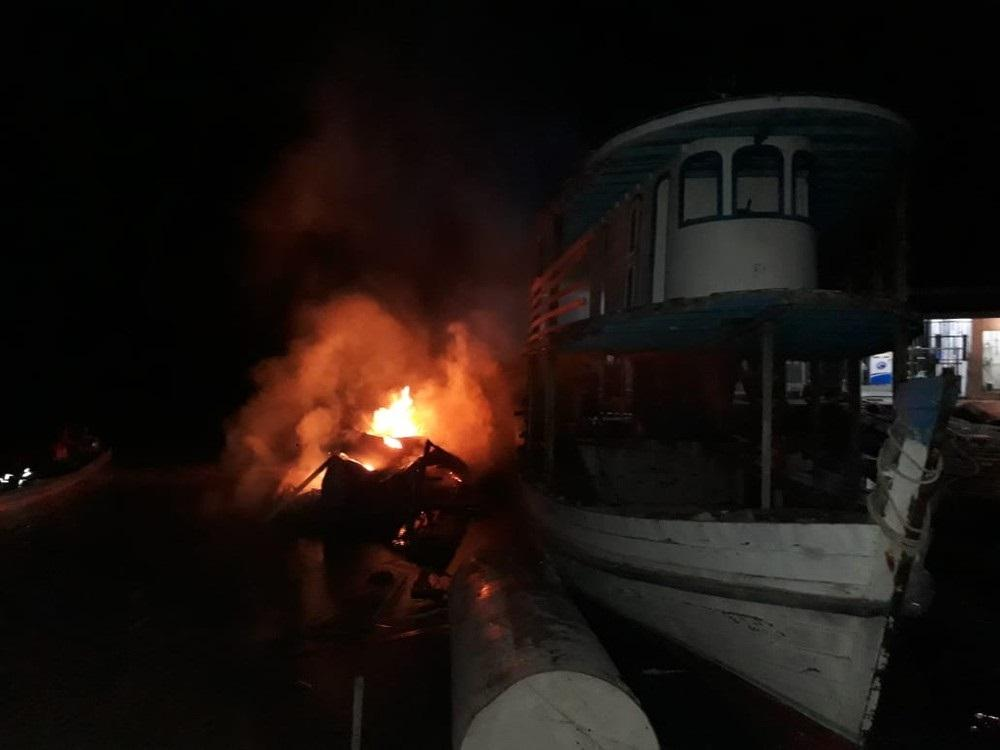fire: (364, 390, 422, 440)
